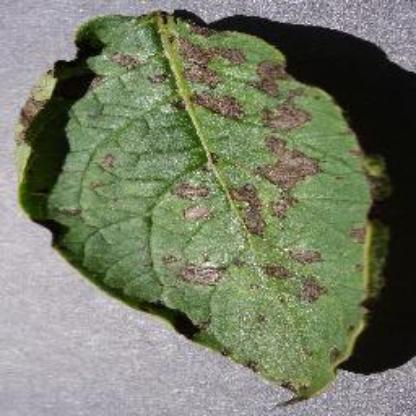Early-Blight: (19, 10, 393, 402)
